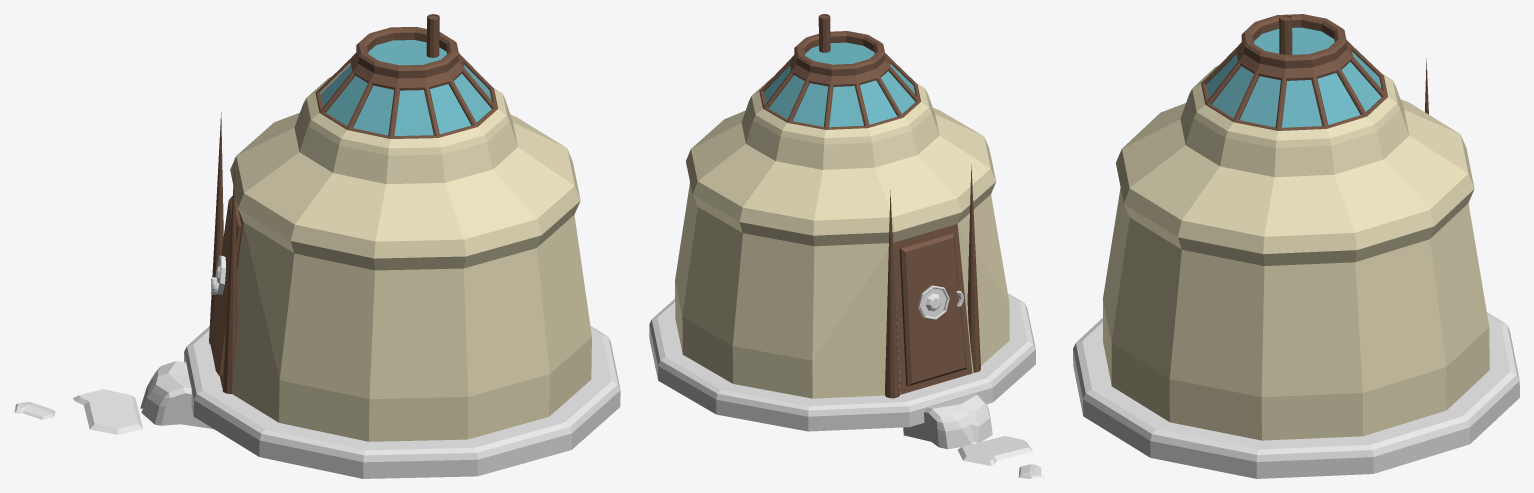
The model's file is SM_Tent.fbx.
3 views of the same model, side by side, from view 1: azimuth 30°, elevation 25°; view 2: azimuth 150°, elevation 25°; view 3: azimuth 270°, elevation 25° (orthographic). The views are drawn at different scales.
Visible parts, largest first — view 1: SM_Tent; view 2: SM_Tent; view 3: SM_Tent.
Boxes of the visible parts, bbox=[...] form: SM_Tent: bbox=[14, 14, 620, 478]; SM_Tent: bbox=[649, 14, 1044, 478]; SM_Tent: bbox=[1073, 14, 1519, 478].
Bounding box in the file's own units: 1.35 × 1.03 × 1.02.
